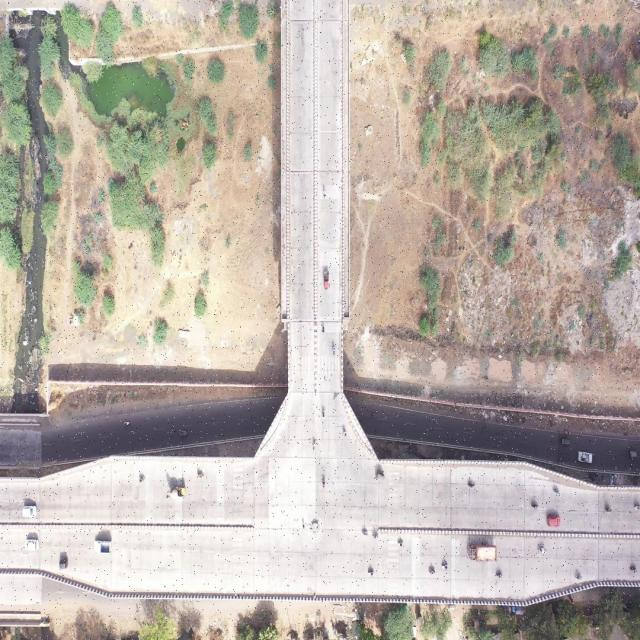3W: (55, 553, 72, 572), (375, 468, 387, 486), (178, 426, 188, 439)
Cars: (19, 502, 41, 527), (22, 535, 41, 558), (545, 513, 561, 528), (561, 437, 571, 448)
LCV: (91, 537, 114, 559), (577, 450, 593, 465), (321, 270, 332, 291)
M2W: (603, 505, 615, 518), (121, 418, 132, 431), (628, 562, 638, 576), (572, 571, 584, 582), (137, 472, 147, 485), (426, 564, 436, 577), (330, 343, 337, 361), (440, 561, 450, 573), (367, 568, 376, 581), (530, 501, 540, 512), (537, 544, 546, 556), (467, 479, 476, 491), (341, 425, 348, 439), (322, 186, 328, 202), (551, 487, 560, 497), (495, 572, 504, 582), (561, 428, 572, 436), (197, 468, 204, 480), (360, 529, 369, 538), (321, 478, 327, 491), (321, 409, 327, 422), (321, 324, 327, 337), (634, 502, 640, 513), (301, 519, 306, 532), (397, 541, 405, 548), (372, 532, 378, 541), (312, 439, 316, 452)
Truck: (466, 542, 499, 565), (165, 484, 187, 504), (626, 449, 638, 462)
